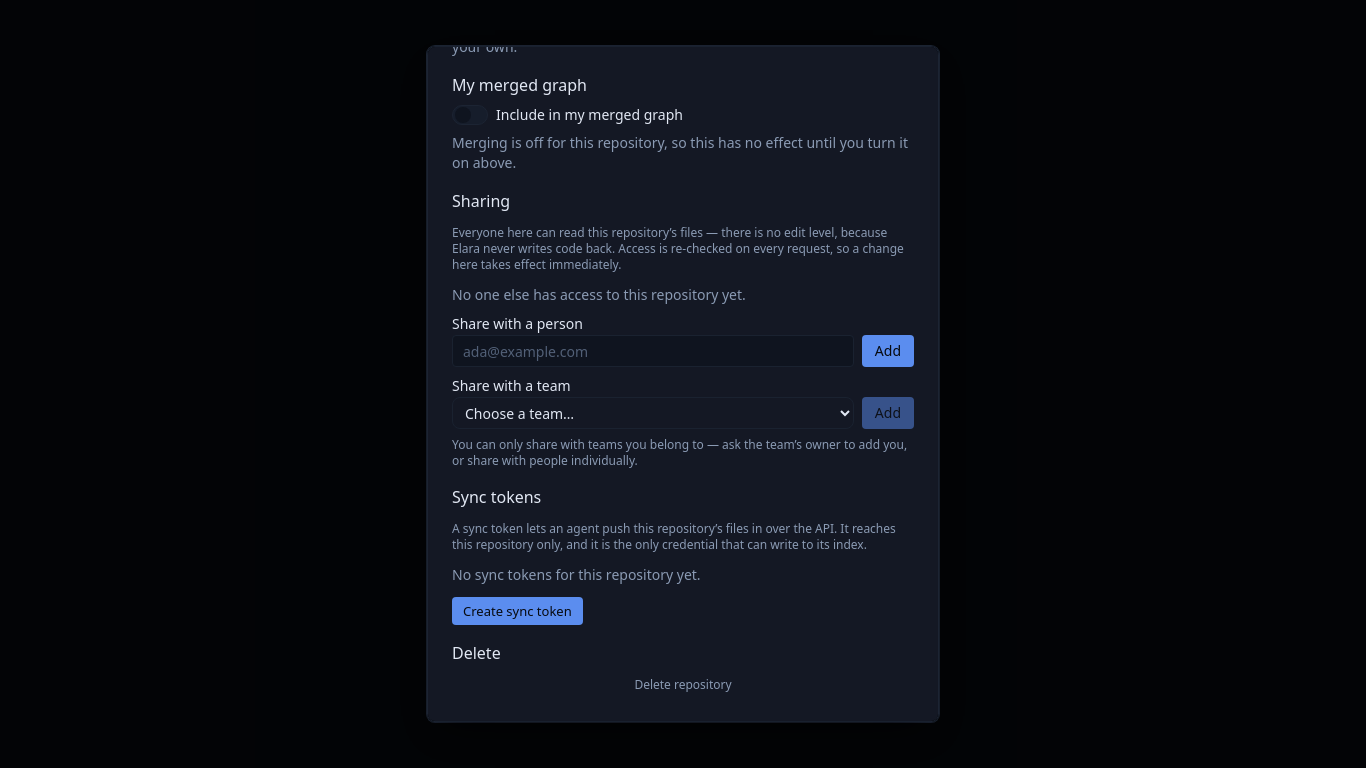
Test: RepositorySettingsDialog › keeps a failed delete on screen with the reason instead of navigating away
The width and height of the screenshot is (1366, 768).
(page scrolled)
Click the button with aria-label "Delete Elara": (683, 685) [452,673,914,697]
(page scrolled)
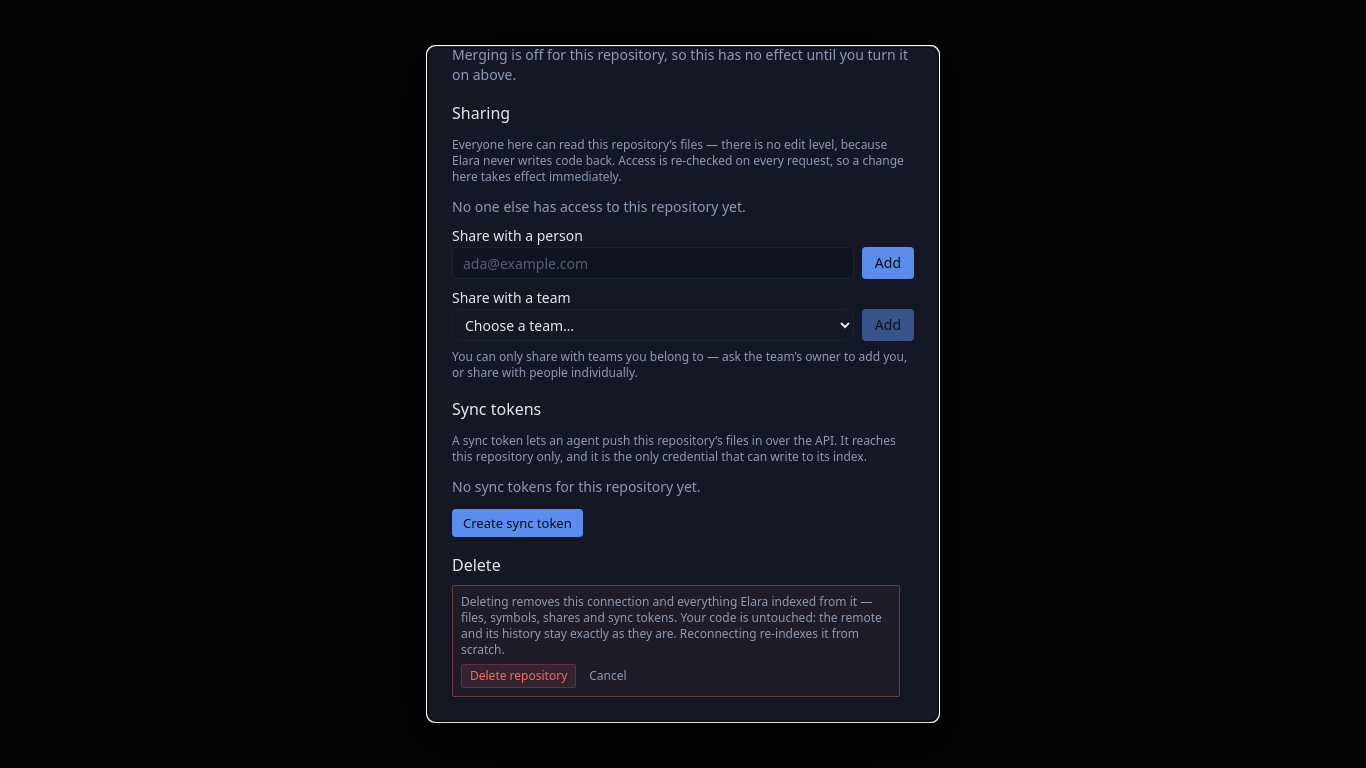
Click the button "Delete repository": (519, 676) [461,664,576,688]
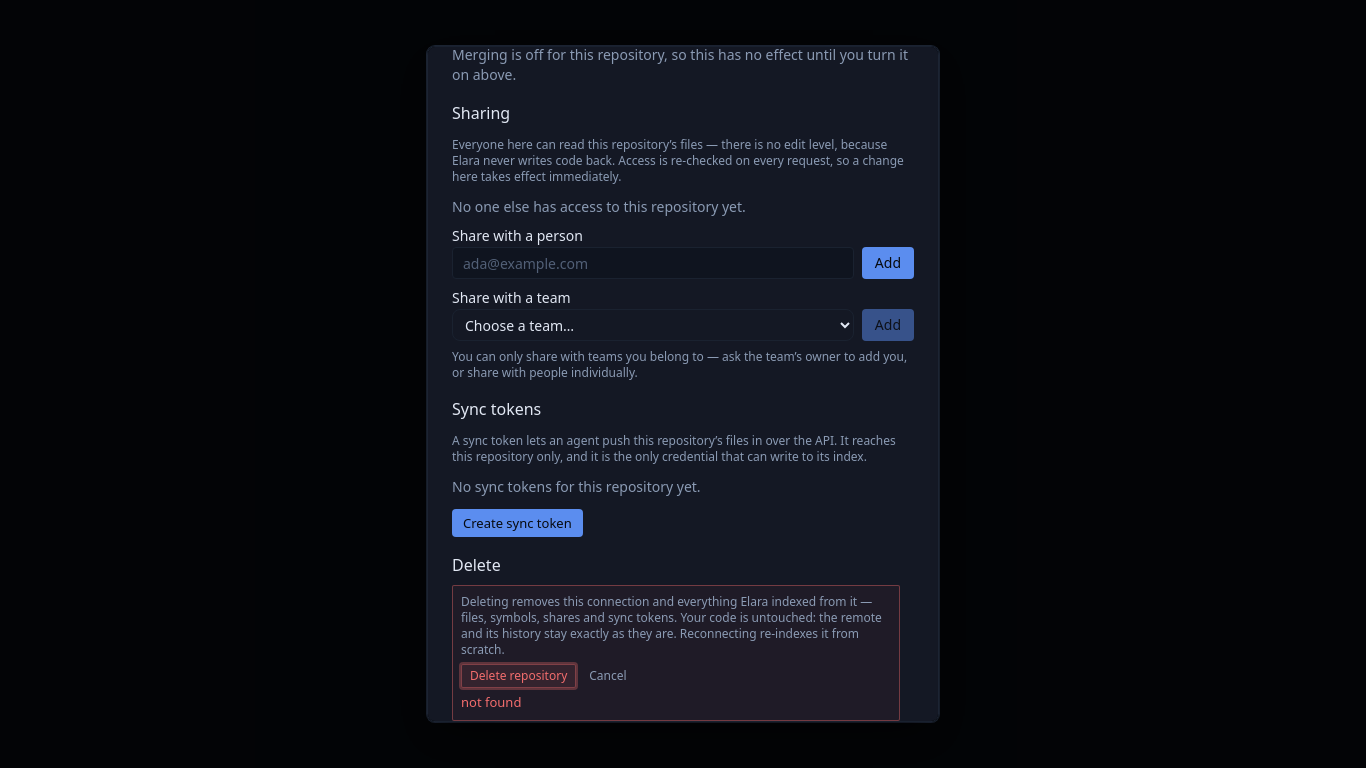
Check: the text "not found" is shown, box [461,693,521,711]
